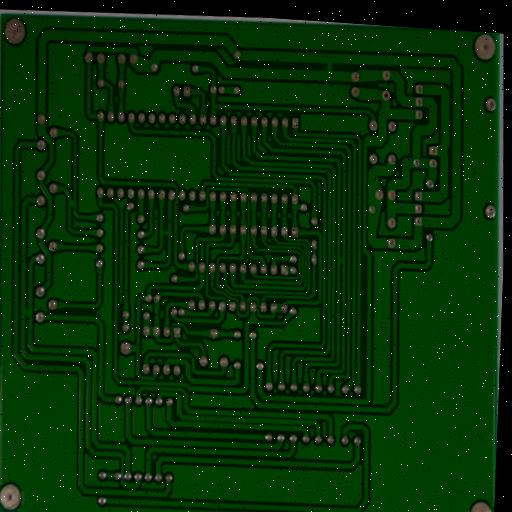short_circuit: (316, 56, 339, 78), (18, 304, 34, 322), (158, 225, 172, 240), (66, 196, 78, 211), (334, 254, 346, 267)
